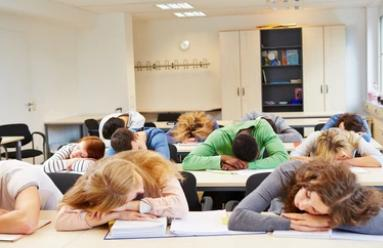sleep: (227, 160, 383, 238), (57, 149, 190, 231), (181, 122, 291, 172), (289, 130, 383, 170), (38, 134, 106, 172), (107, 126, 172, 163), (242, 110, 303, 143), (164, 110, 218, 146), (94, 112, 147, 142), (314, 114, 372, 136)
